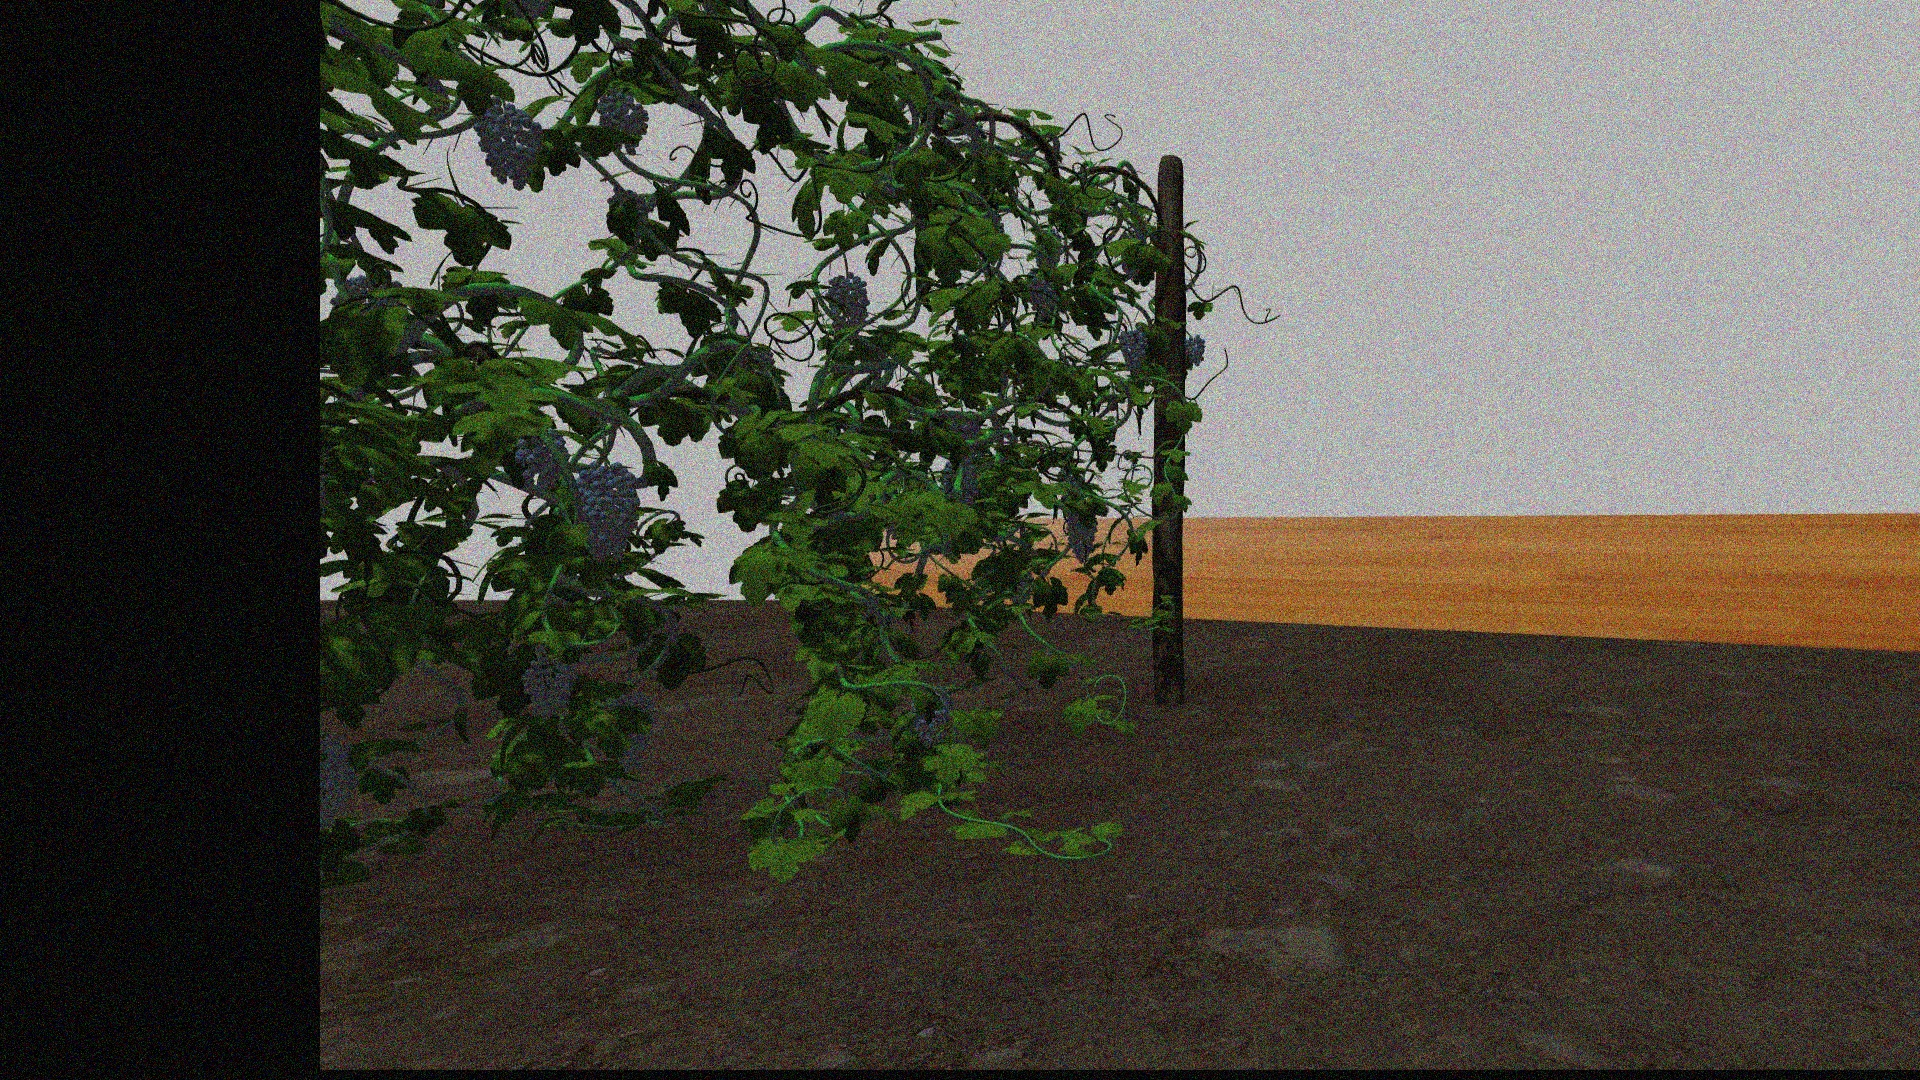grape: (574, 462, 640, 562), (473, 96, 541, 191), (520, 654, 576, 723), (612, 691, 658, 771), (514, 431, 568, 493), (596, 88, 649, 149), (824, 270, 870, 334), (324, 738, 355, 827), (909, 692, 949, 746), (1065, 512, 1098, 562), (1116, 327, 1149, 375), (1029, 278, 1058, 315), (1180, 334, 1207, 369)
